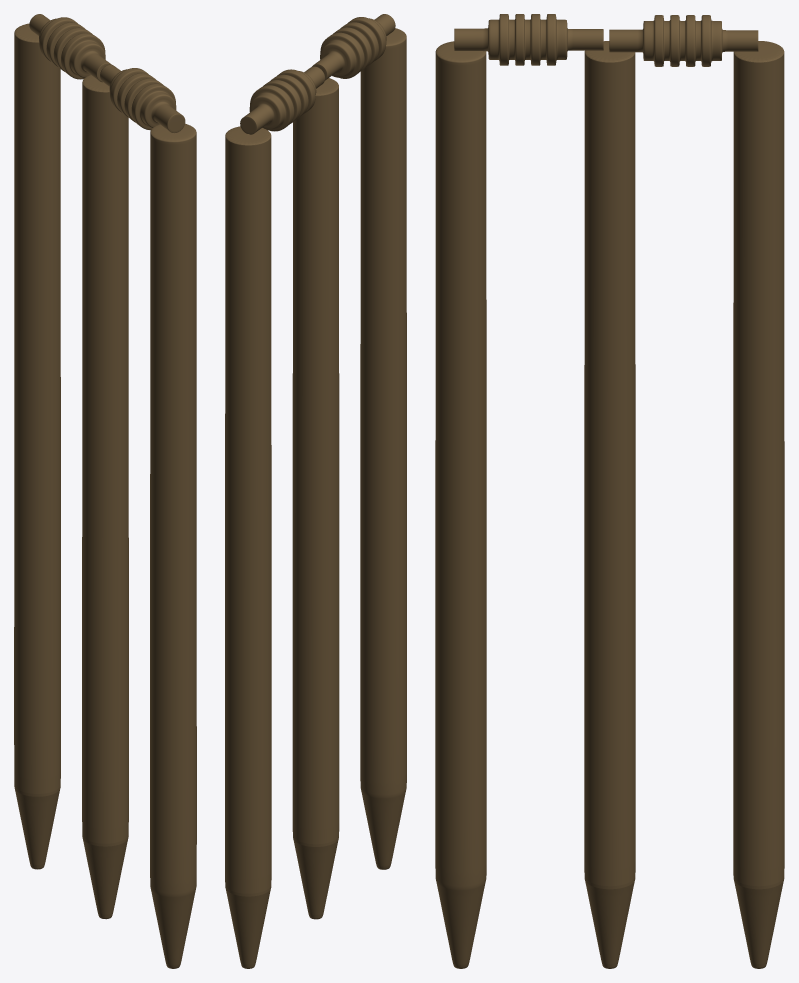
3 renders of one model, left to right at view 1: azimuth 30°, elevation 25°; view 2: azimuth 150°, elevation 25°; view 3: azimuth 270°, elevation 25°, orthographic. The views are drawn at different scales.
Parts seen in each view (by area): view 1: Cylinder.002, Cylinder, Cylinder.001, Cylinder.003, Cylinder.004; view 2: Cylinder.001, Cylinder, Cylinder.002, Cylinder.004, Cylinder.003; view 3: Cylinder.001, Cylinder.002, Cylinder, Cylinder.003, Cylinder.004.
Boxes of the visible parts, box(x1,y1,x2,y2) form: Cylinder.002: box(150, 123, 196, 968); Cylinder: box(82, 75, 128, 919); Cylinder.001: box(14, 23, 60, 869); Cylinder.003: box(100, 64, 185, 132); Cylinder.004: box(29, 14, 111, 82); Cylinder.001: box(225, 126, 271, 968); Cylinder: box(292, 78, 339, 919); Cylinder.002: box(360, 28, 406, 869); Cylinder.004: box(240, 66, 325, 134); Cylinder.003: box(312, 14, 395, 80); Cylinder.001: box(733, 41, 784, 968); Cylinder.002: box(435, 41, 486, 968); Cylinder: box(584, 41, 635, 968); Cylinder.003: box(454, 14, 603, 65); Cylinder.004: box(609, 15, 758, 66).
Size of the model in its own units: 22.75 by 461 by 153.
